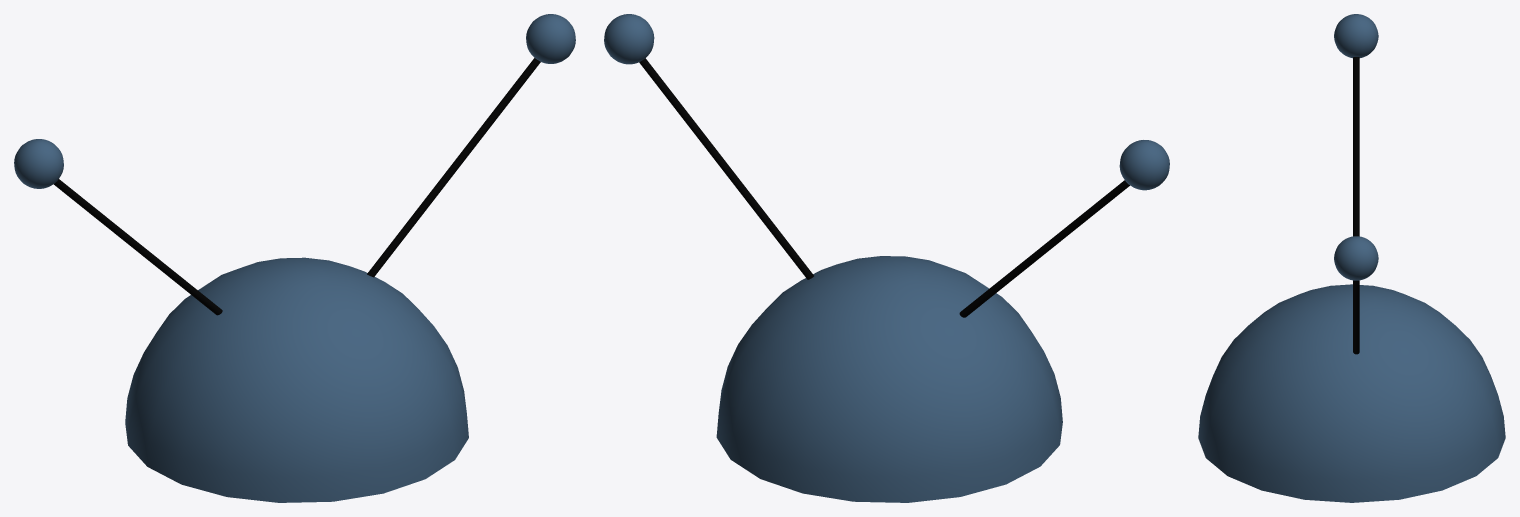
File: antena.obj
The picture shows the model from 3 angles, left to right: view 1: azimuth 30°, elevation 25°; view 2: azimuth 150°, elevation 25°; view 3: azimuth 270°, elevation 25°; orthographic projection. The views are drawn at different scales.
Parts seen in each view (by area): view 1: pSphere8; view 2: pSphere8; view 3: pSphere8.
Boxes of the visible parts, <box> form: pSphere8: <box>14,14,575,502</box>; pSphere8: <box>604,14,1169,502</box>; pSphere8: <box>1198,14,1505,502</box>.
Size of the model in its own units: 25.41 by 15.29 by 13.7.
Materials: 2 (2 with a texture image).
